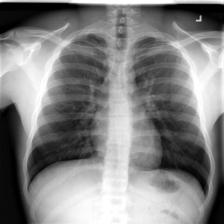normal: (23, 30, 216, 202)
